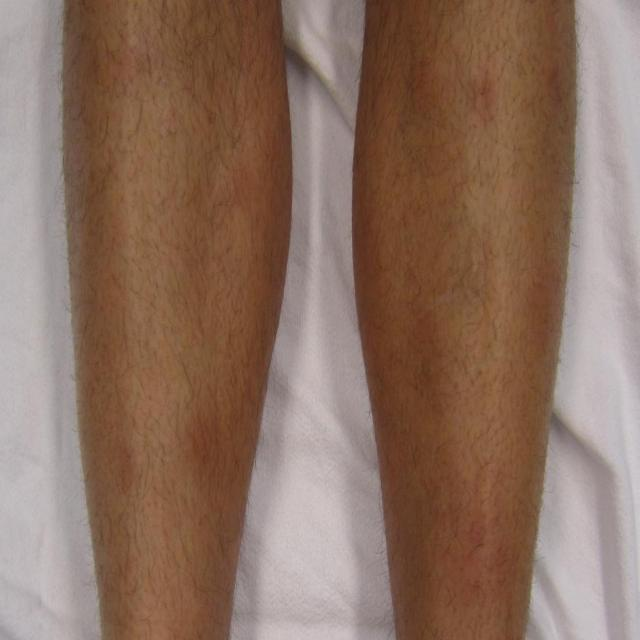Erythema nodosum: (76, 0, 264, 640), (373, 32, 553, 499)
